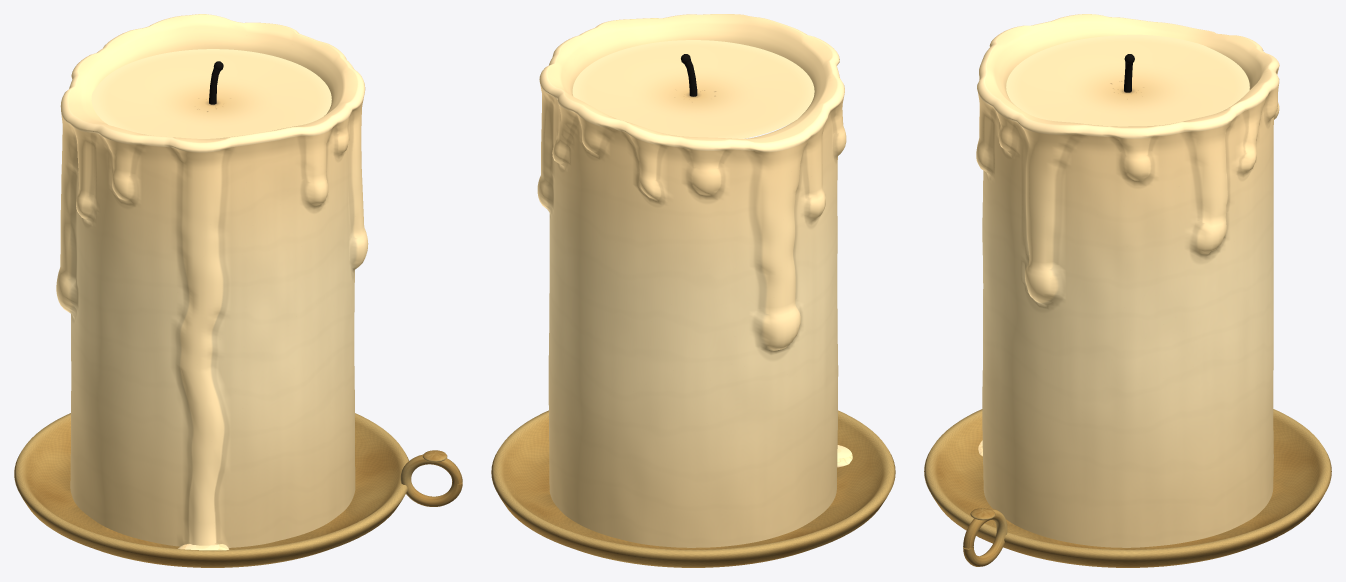
Rendered from candle.glb.
3 views of the same model, side by side, from view 1: azimuth 30°, elevation 25°; view 2: azimuth 150°, elevation 25°; view 3: azimuth 270°, elevation 25° (orthographic). The views are drawn at different scales.
Parts seen in each view (by area): view 1: candle; view 2: candle; view 3: candle.
Boxes of the visible parts, <box> form: candle: <box>14,14,462,567</box>; candle: <box>491,14,895,567</box>; candle: <box>924,14,1331,567</box>.
Size of the model in its own units: 0.7 by 0.8405 by 0.7.
Materials: 4 (3 with a texture image).
